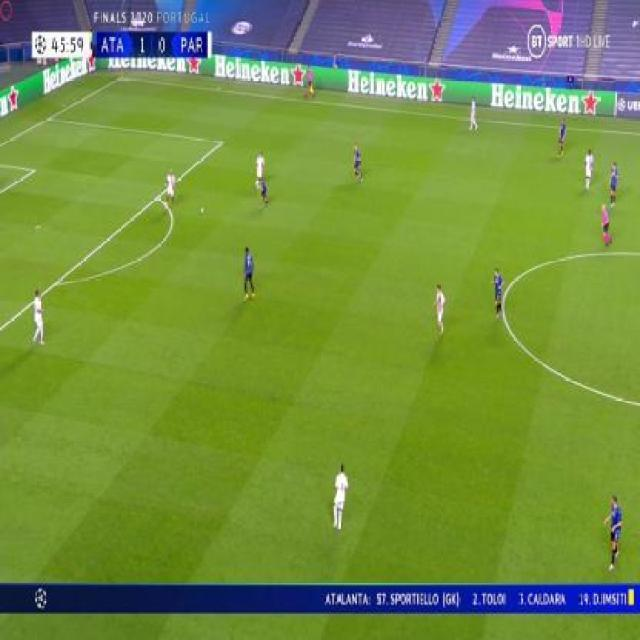ball: (199, 206, 205, 215)
player: (602, 491, 624, 568), (333, 460, 350, 529), (30, 286, 46, 346), (431, 281, 448, 335), (242, 244, 256, 301), (491, 266, 505, 320), (599, 202, 613, 247), (607, 159, 620, 207), (582, 145, 595, 190), (351, 139, 364, 184), (253, 147, 266, 190), (164, 166, 177, 209), (556, 115, 567, 158), (468, 93, 479, 130), (304, 65, 315, 98), (259, 179, 270, 207)
